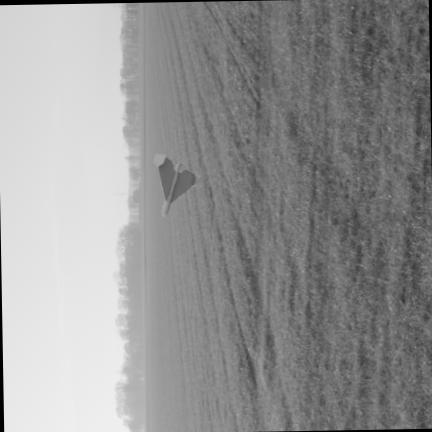Shahed: (154, 153, 200, 214)
